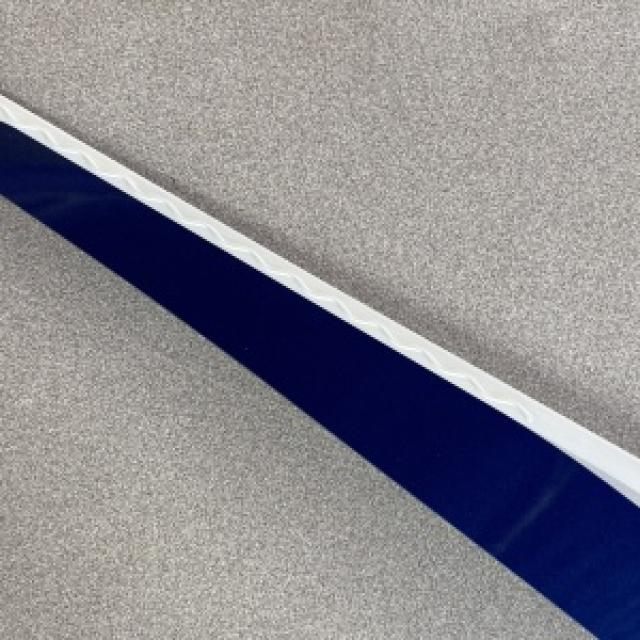healthy: (0, 96, 638, 638), (0, 198, 589, 638)
